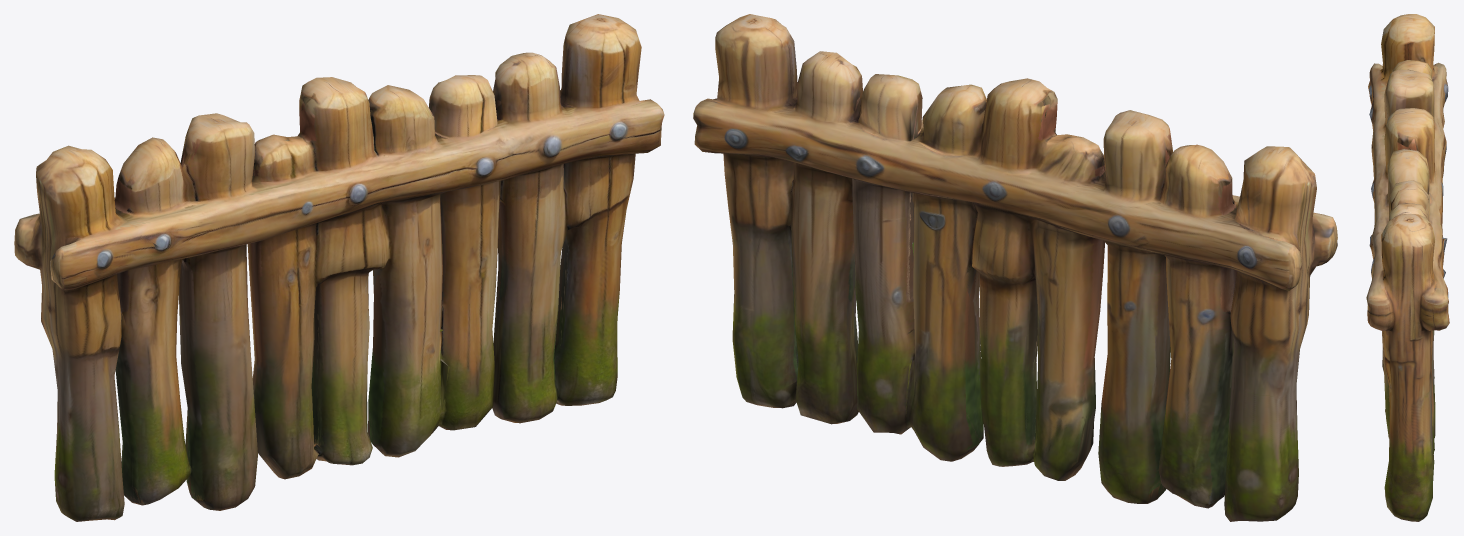
Rendered from Wooden_Fence_1001021327_texture.fbx.
3 renders of one model, left to right at view 1: azimuth 30°, elevation 25°; view 2: azimuth 150°, elevation 25°; view 3: azimuth 270°, elevation 25°, orthographic. The views are drawn at different scales.
Parts seen in each view (by area): view 1: input; view 2: input; view 3: input.
Boxes of the visible parts, <box> form: input: <box>14,14,664,521</box>; input: <box>693,14,1337,521</box>; input: <box>1366,14,1449,521</box>.
Bounding box in the file's own units: 191 × 118 × 28.43.
Materials: 1 (1 with a texture image).
